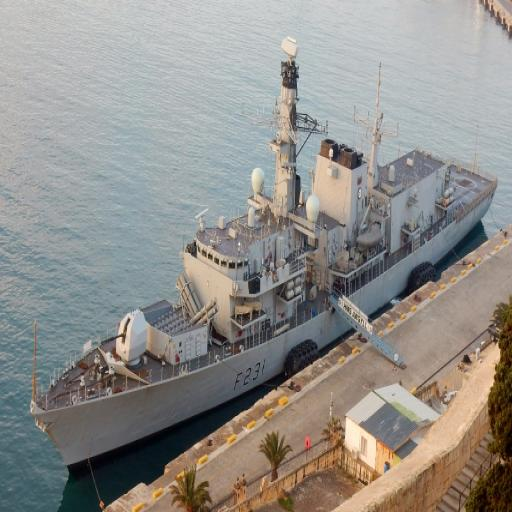Fragata: (26, 13, 502, 484)
